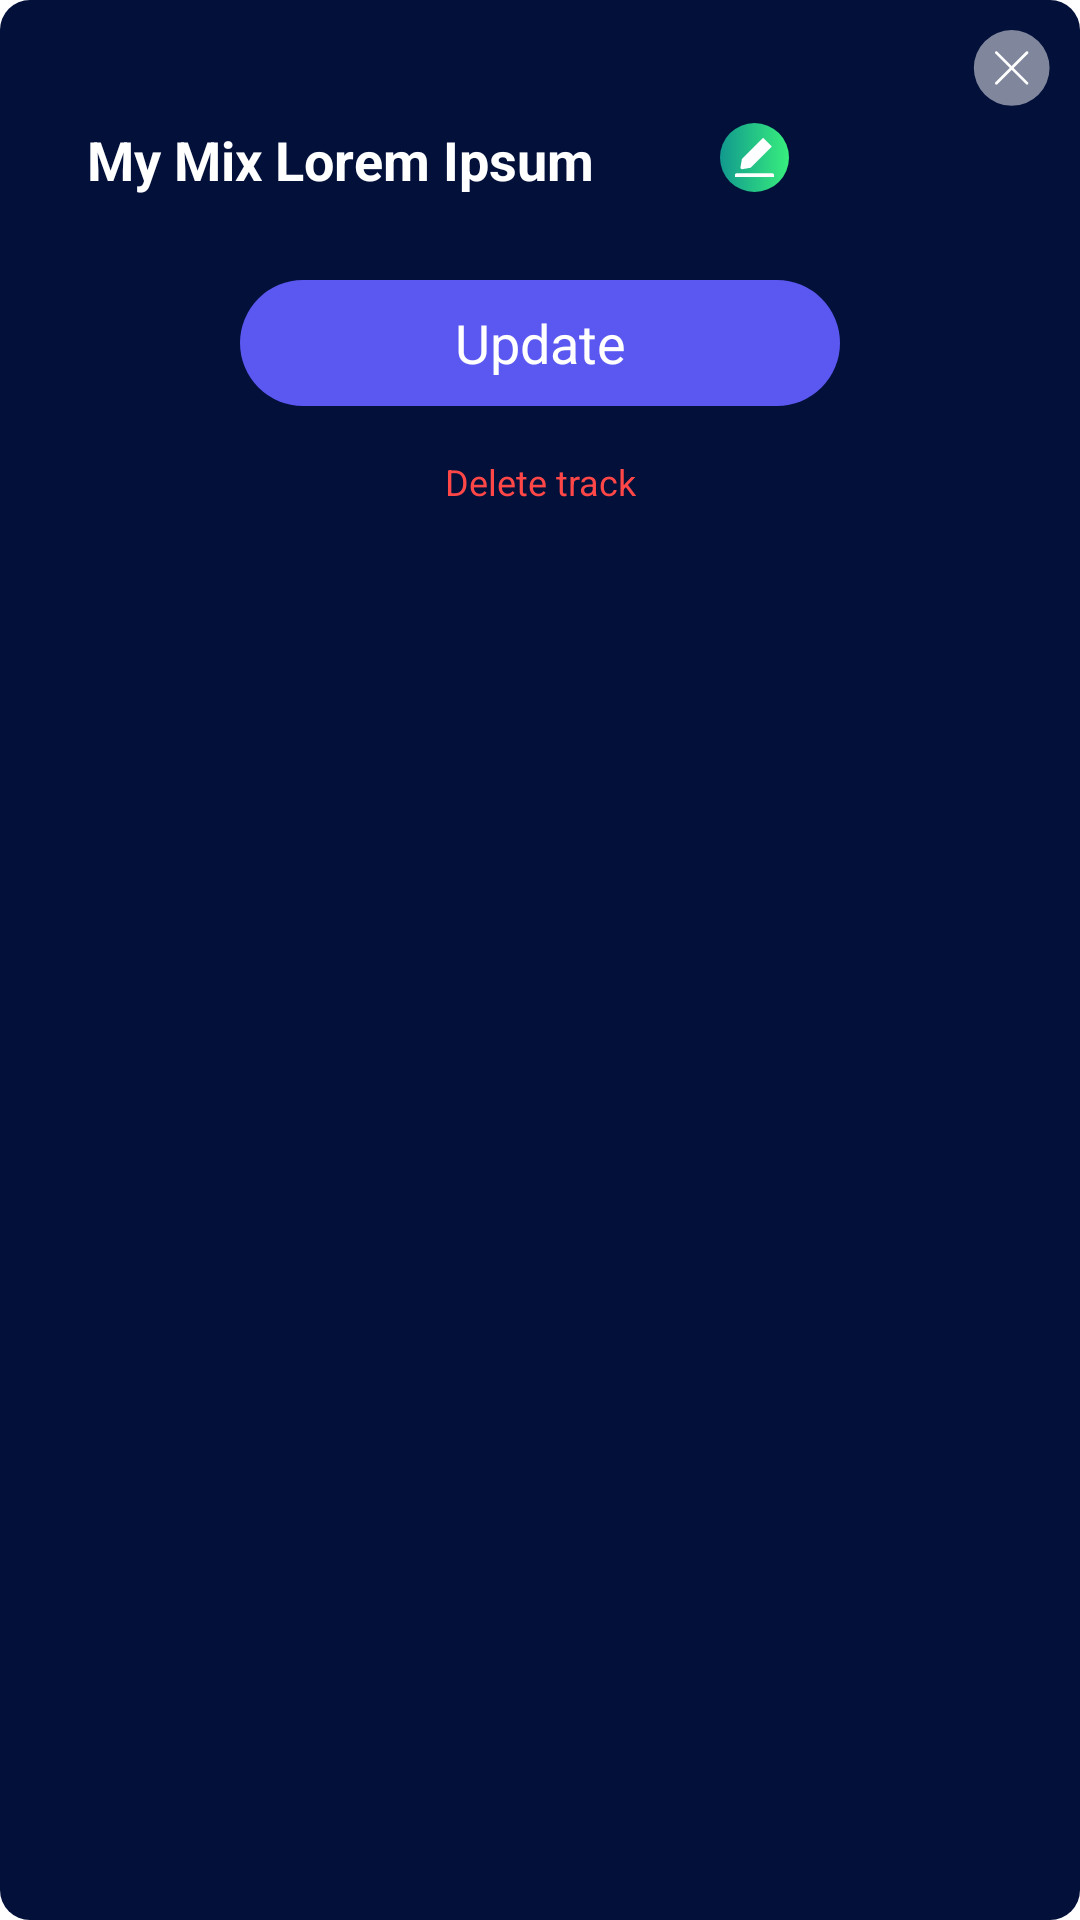

Screen size 1080 × 1920. Icon name, then its box in pixels as detection(x1, y1, x2, y2):
closedialog: detection(974, 30, 1050, 106)
edit favorite: detection(720, 123, 789, 192)
